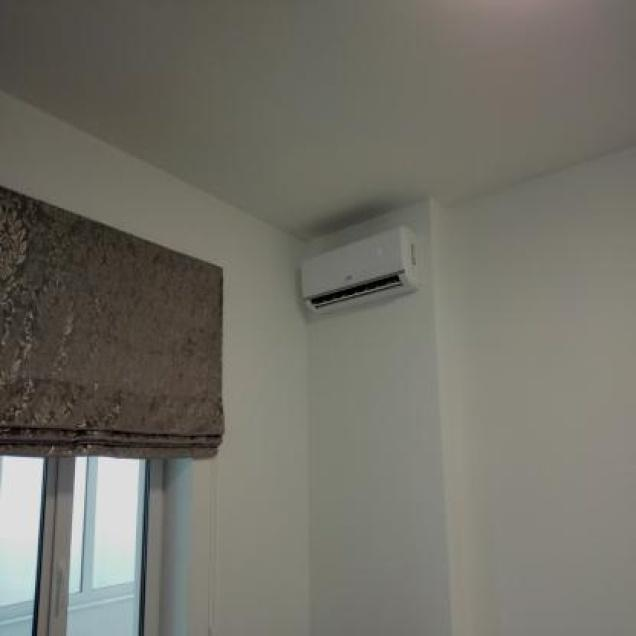AC: (299, 224, 422, 316)
